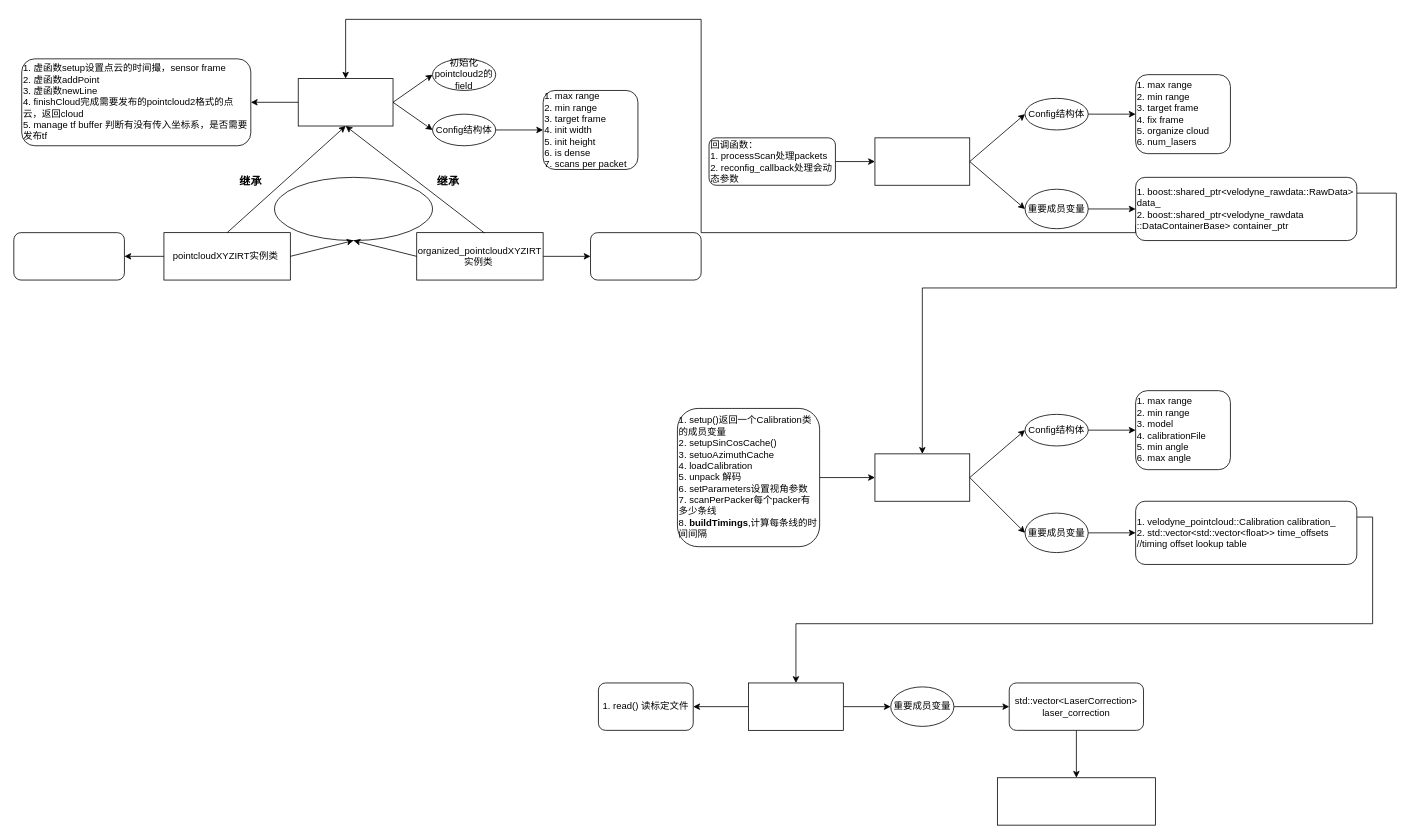
Some shapes in this 1416 by 839 pixel diagram are drawn without their labels. Each missing label, with the box of its shape:
1. 实例化addPoint()，这个点云的格式是无序的 2. setup()实例化迭代器: (13, 232, 124, 280)
1. 实例化addPoint()，这个点云的格式是有序的，有一些点是nan 2. setup()实例化迭代器: (590, 232, 701, 280)
Calibration类 // 这个类主要是yaml文件的参数变量: (748, 682, 843, 730)
DataContainerBase类: (297, 78, 393, 126)
RawData类: (874, 453, 970, 501)
Transform 类: (874, 137, 970, 185)
成员变量：cloud的field的迭代器sensor_msgs::PointCloud2Iterator: (274, 177, 433, 241)
结构体 LaserCorrection // correction information for a single laser: (997, 777, 1155, 825)
